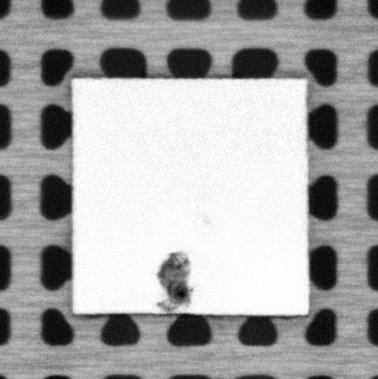DIE_INK: (152, 250, 195, 315)
